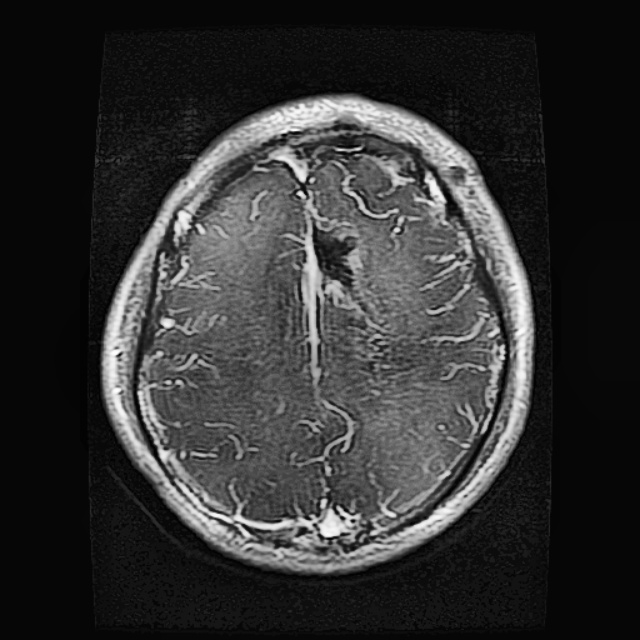Glioma: (275, 220, 365, 297)
